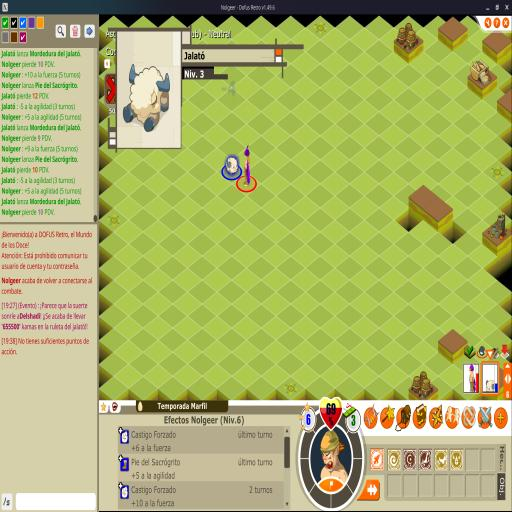Enemigos: (225, 156, 239, 176)
Personaje: (244, 145, 251, 187)
